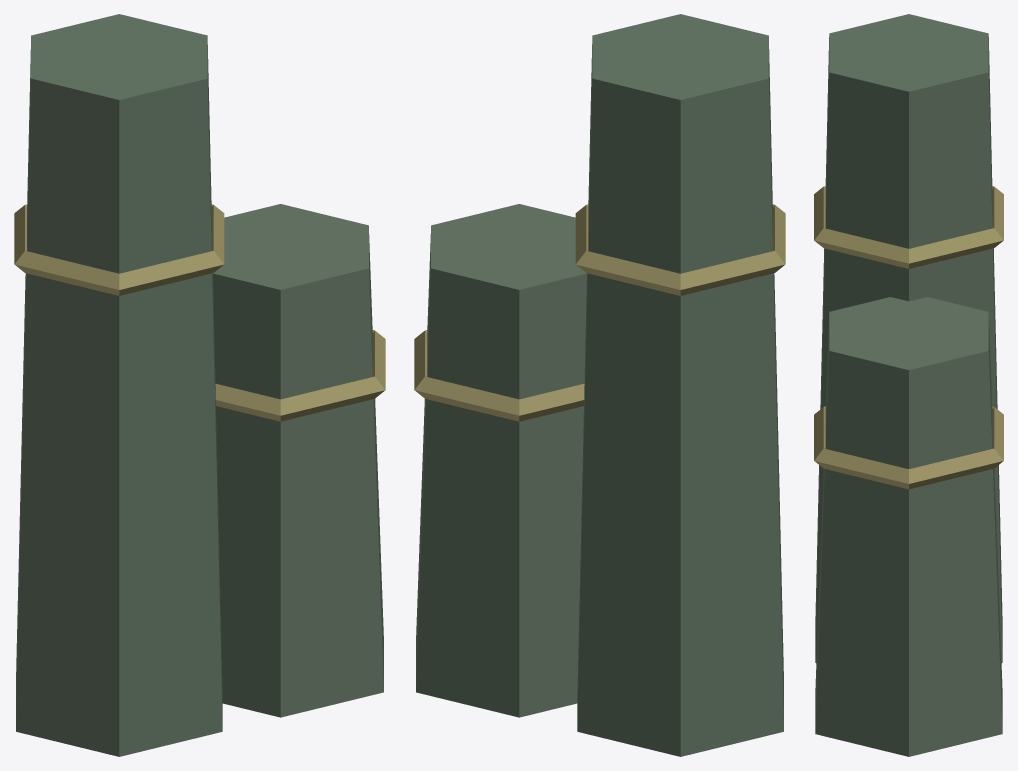
File: map-boundaries-v5__ruins_05.glb
The picture shows the model from 3 angles, left to right: view 1: azimuth 30°, elevation 25°; view 2: azimuth 150°, elevation 25°; view 3: azimuth 270°, elevation 25°; orthographic projection. The views are drawn at different scales.
Parts seen in each view (by area): view 1: ruins_05; view 2: ruins_05; view 3: ruins_05.
Boxes of the visible parts, x1,y1,x2,y2 form: ruins_05: [14, 14, 385, 756]; ruins_05: [414, 14, 785, 756]; ruins_05: [814, 14, 1003, 756].
Size of the model in its own units: 1.22 by 2.04 by 0.5976.
